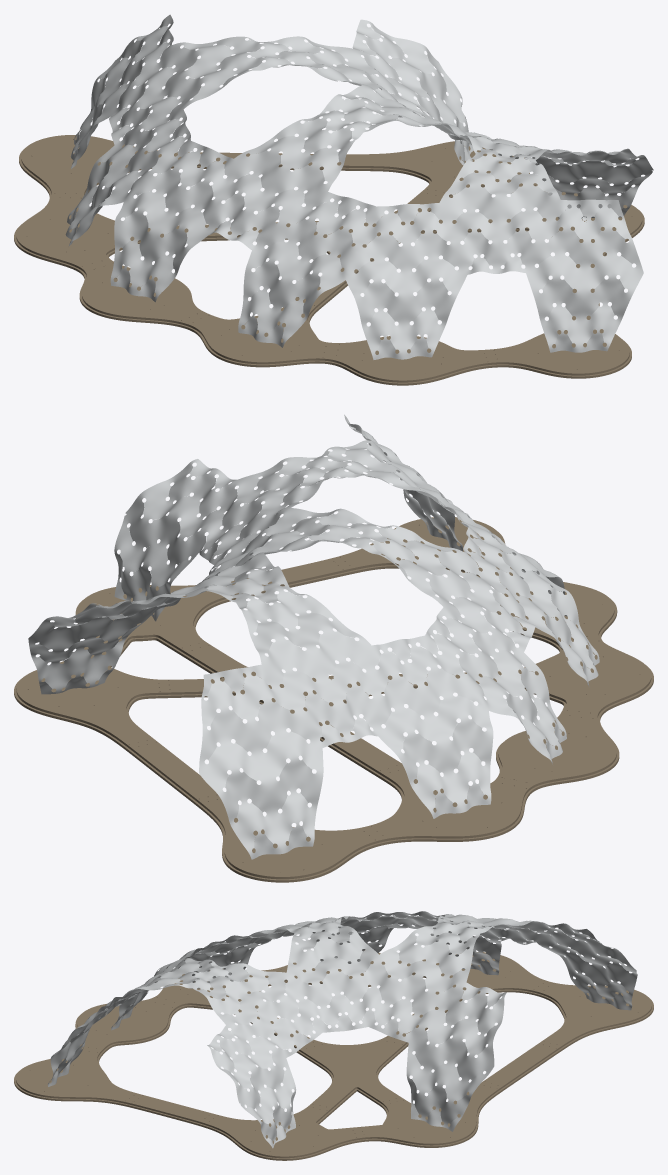
File: source-layers.glb
3 views of the same model, one above another, from view 1: azimuth 30°, elevation 25°; view 2: azimuth 150°, elevation 25°; view 3: azimuth 270°, elevation 25° (orthographic). The views are drawn at different scales.
Visible parts, largest first — view 1: shell, base-upper, base-lower; view 2: shell, base-upper, base-lower; view 3: shell, base-upper, base-lower.
Part boxes in pixels (x1,y1,x2,y2): shell: [65, 14, 653, 359]; base-upper: [16, 135, 642, 382]; base-lower: [14, 148, 644, 385]; shell: [28, 414, 599, 859]; base-upper: [16, 517, 651, 879]; base-lower: [14, 532, 653, 882]; shell: [47, 911, 637, 1148]; base-upper: [16, 949, 651, 1158]; base-lower: [14, 974, 653, 1160].
Bounding box in the file's own units: 2.62 × 0.7329 × 3.36.
